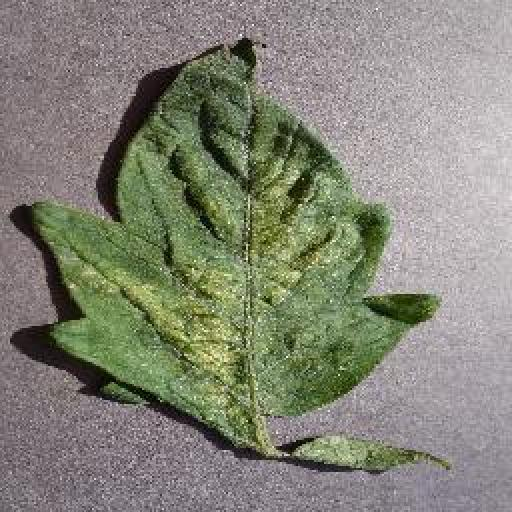disease_tomato: (30, 37, 438, 416)
